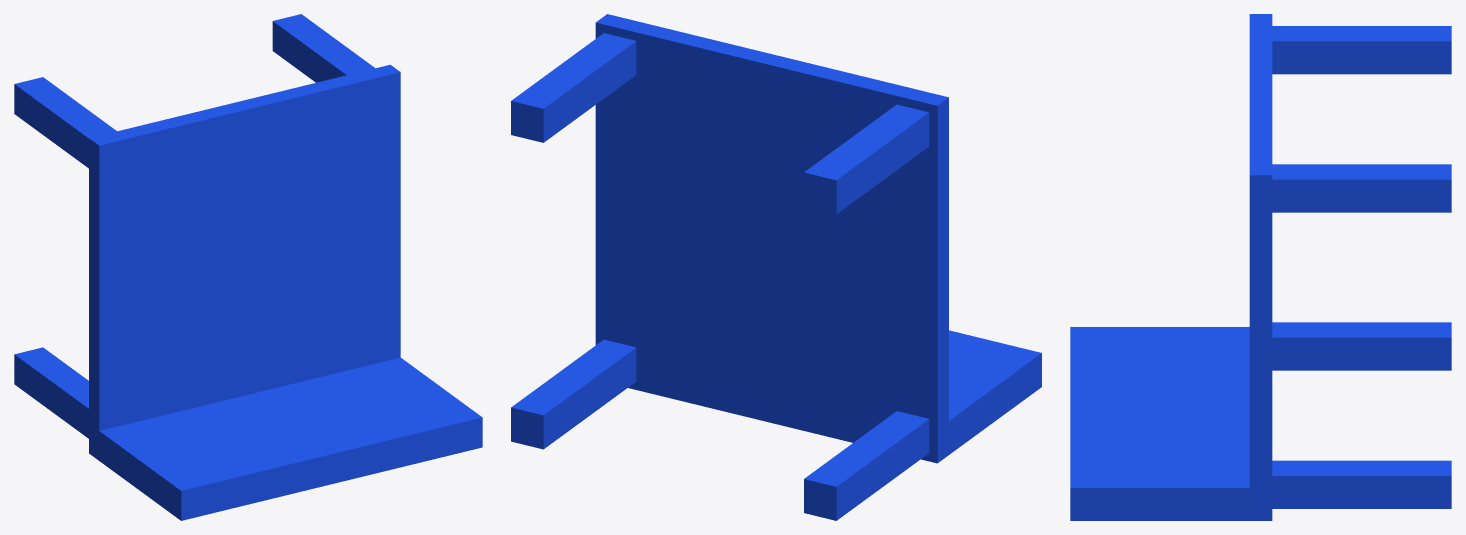
The model's file is chair.obj.
3 renders of one model, left to right at view 1: azimuth 30°, elevation 25°; view 2: azimuth 150°, elevation 25°; view 3: azimuth 270°, elevation 25°, orthographic. The views are drawn at different scales.
Size of the model in its own units: 1 by 1 by 1.
